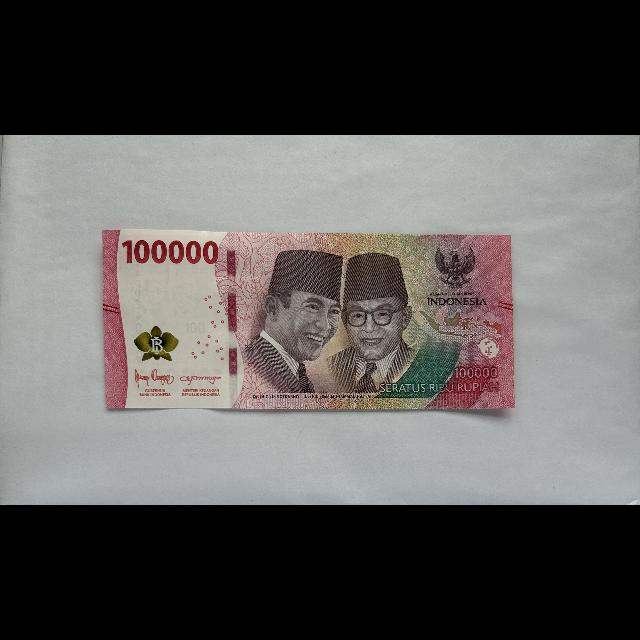Asli-100k: (102, 228, 517, 410)
Tinta-Asli-100k: (133, 324, 180, 363)
